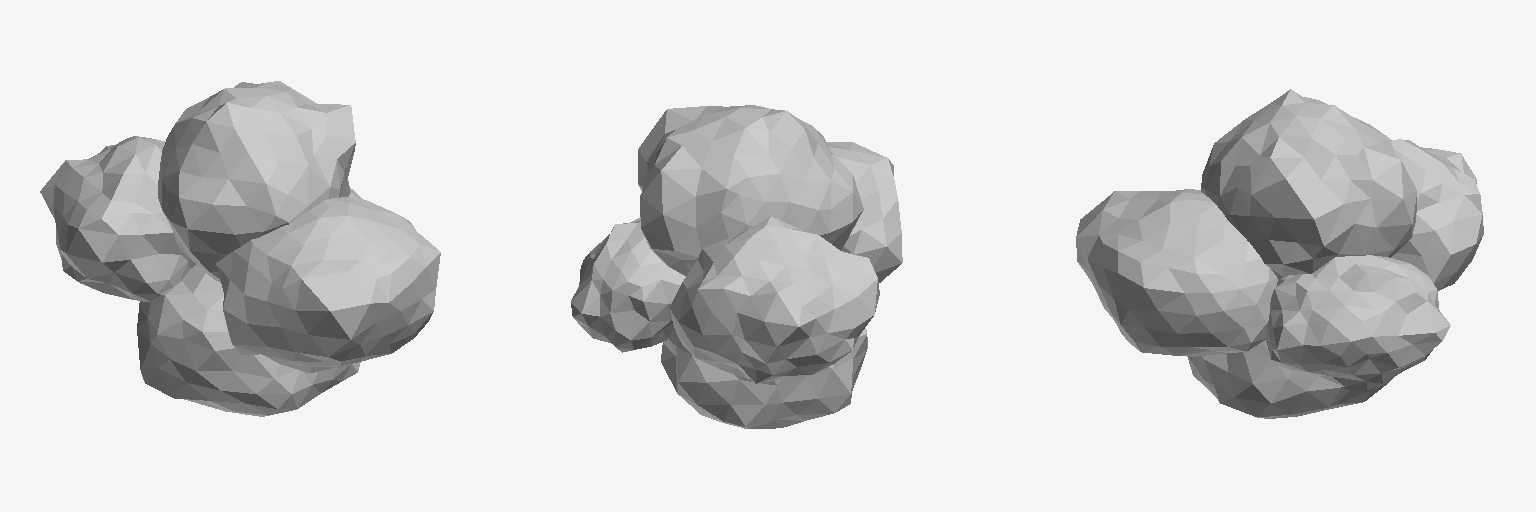
File: cloud_1.obj
3 renders of one model, left to right at view 1: azimuth 30°, elevation 25°; view 2: azimuth 150°, elevation 25°; view 3: azimuth 270°, elevation 25°, orthographic.
Visible parts, largest first — view 1: cloud_1; view 2: cloud_1; view 3: cloud_1.
Boxes of the visible parts, x1=… form: cloud_1: x1=40, y1=81, x2=440, y2=416; cloud_1: x1=571, y1=105, x2=902, y2=428; cloud_1: x1=1076, y1=89, x2=1483, y2=418.
Bounding box in the file's own units: 6.08 × 6.08 × 7.24.